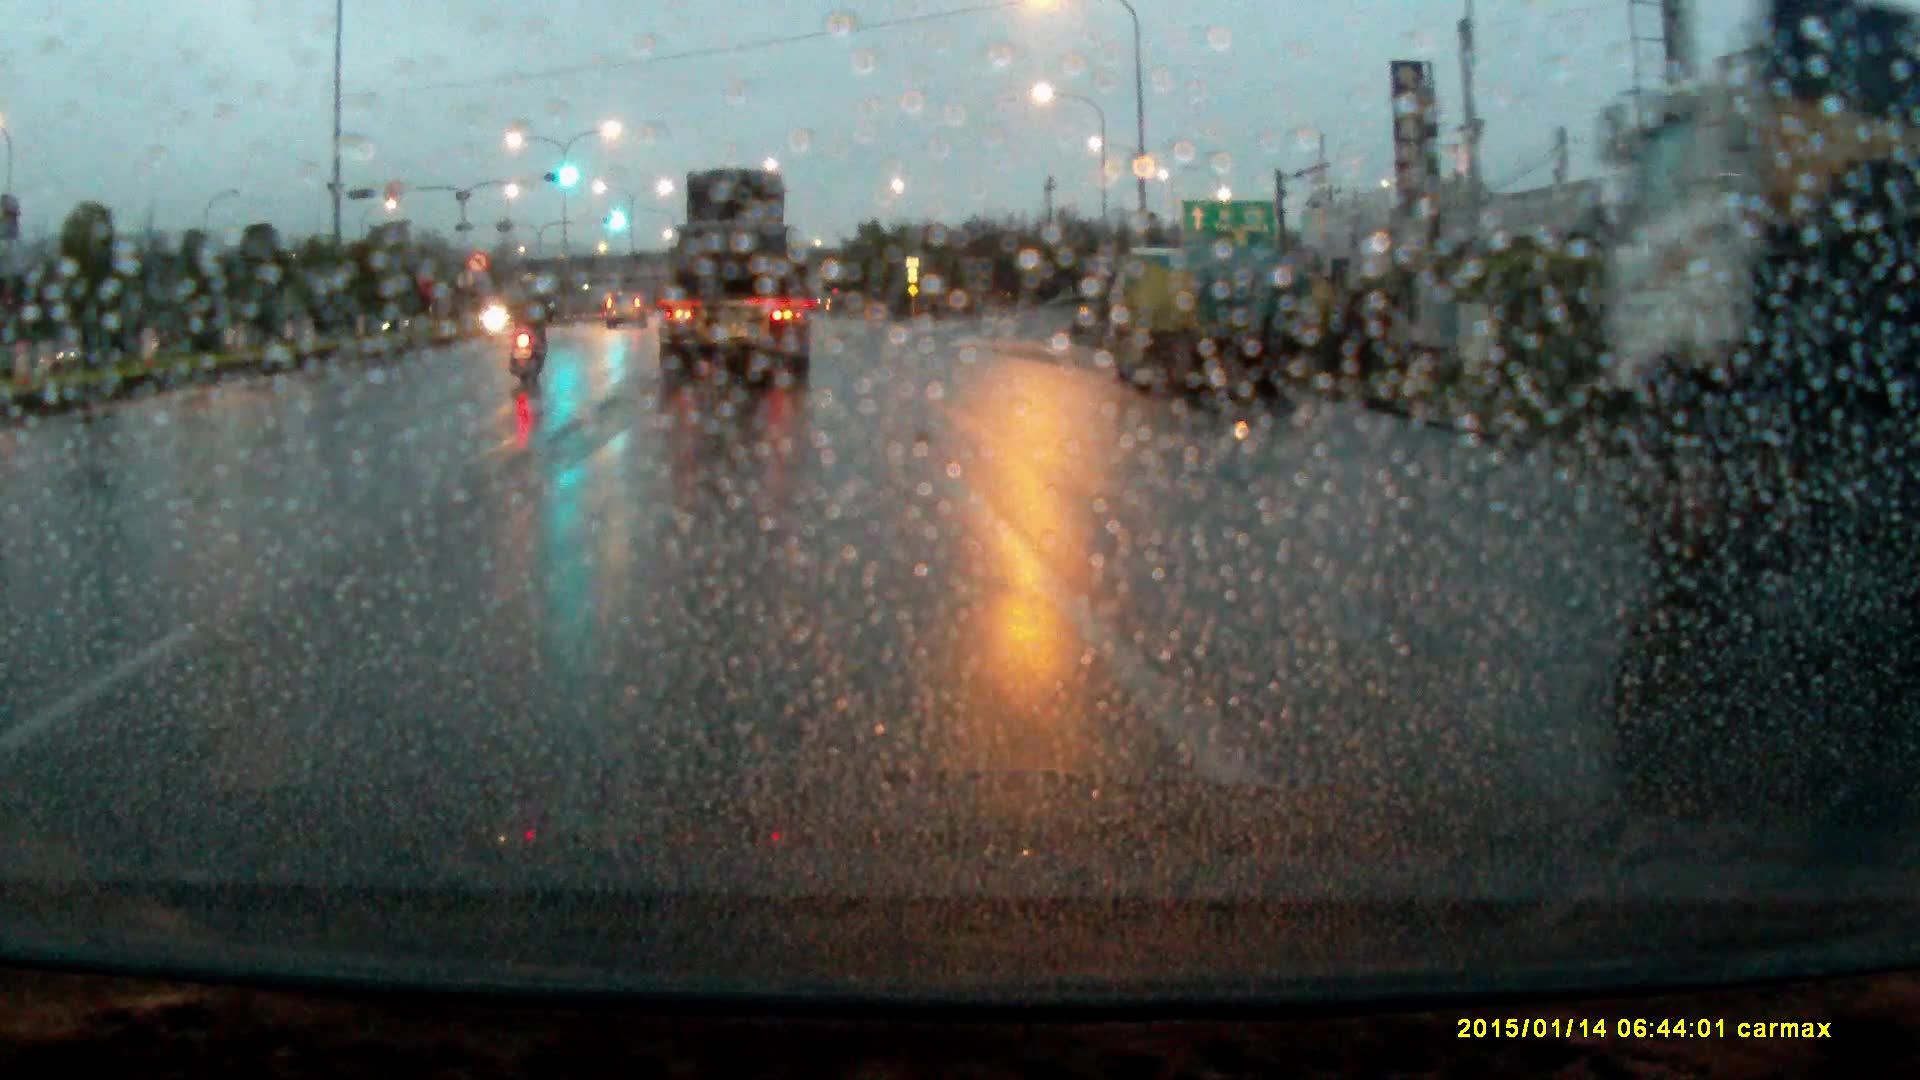rider: (505, 272, 557, 384)
vehicle: (1613, 11, 1920, 566), (654, 168, 815, 396), (1096, 248, 1320, 409), (604, 294, 647, 333)
